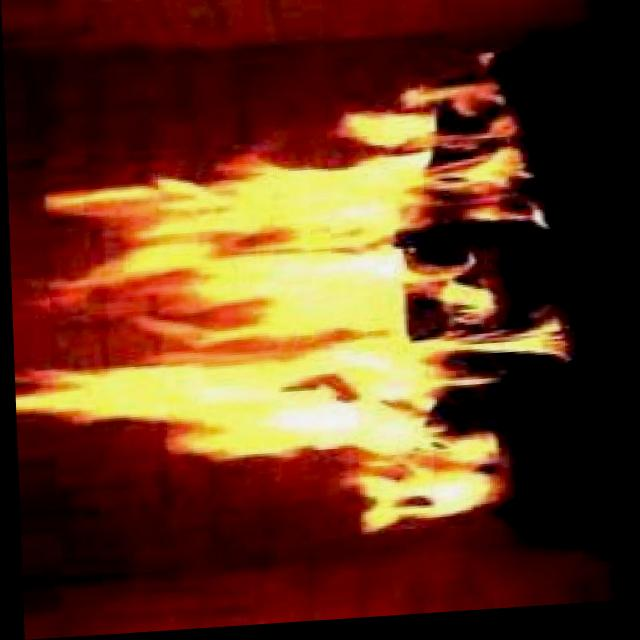helmet: (3, 60, 584, 567)
